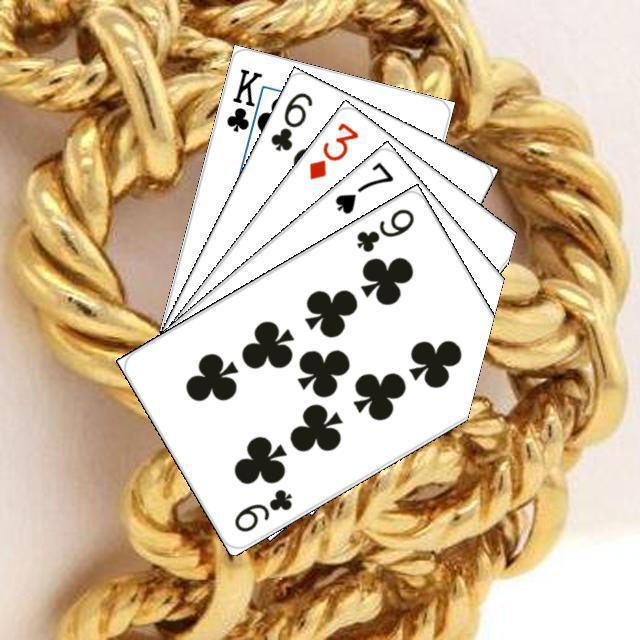3d: (303, 117, 361, 182)
6c: (265, 87, 315, 153)
7s: (329, 157, 395, 216)
9c: (351, 203, 416, 254), (229, 484, 294, 534)
Kc: (221, 63, 268, 144)
